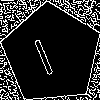I: (26, 29, 57, 77)
